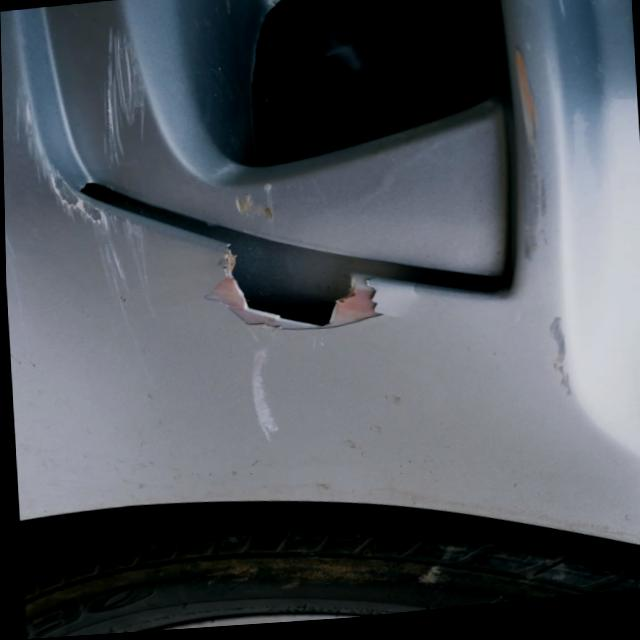Crack: (204, 237, 388, 332)
Scratch: (9, 100, 154, 316), (98, 23, 154, 169), (510, 46, 547, 261), (246, 347, 285, 440), (543, 312, 573, 399), (227, 197, 277, 221)
